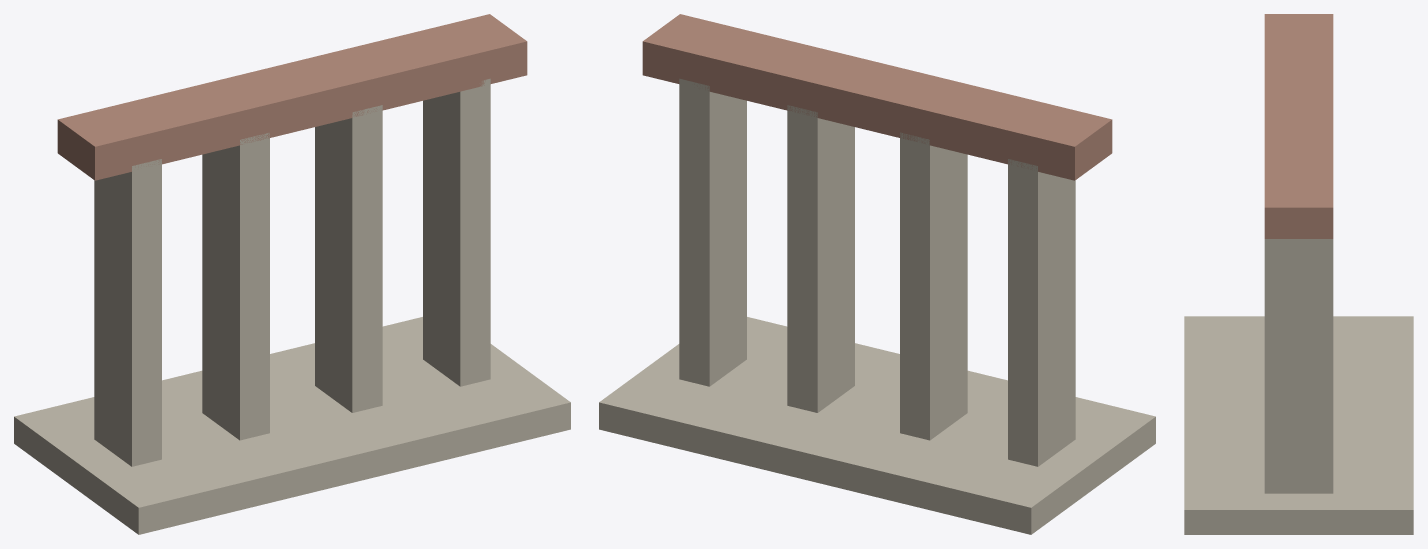
The model's file is iz3_historic_caravanserai_01.glb.
3 renders of one model, left to right at view 1: azimuth 30°, elevation 25°; view 2: azimuth 150°, elevation 25°; view 3: azimuth 270°, elevation 25°, orthographic. The views are drawn at different scales.
Visible parts, largest first — view 1: arcade_pier (×4), base, entablature; view 2: arcade_pier (×4), base, entablature; view 3: base, arcade_pier, entablature.
Boxes of the visible parts, box(x1,y1,x2,y2) form: arcade_pier (×4): box(94, 78, 490, 466); base: box(14, 317, 570, 534); entablature: box(57, 14, 527, 180); arcade_pier (×4): box(679, 78, 1075, 466); base: box(599, 317, 1155, 534); entablature: box(642, 14, 1112, 180); base: box(1184, 316, 1413, 534); arcade_pier: box(1264, 239, 1333, 493); entablature: box(1264, 14, 1333, 238).
Bounding box in the file's own units: 4 × 3.15 × 2.
